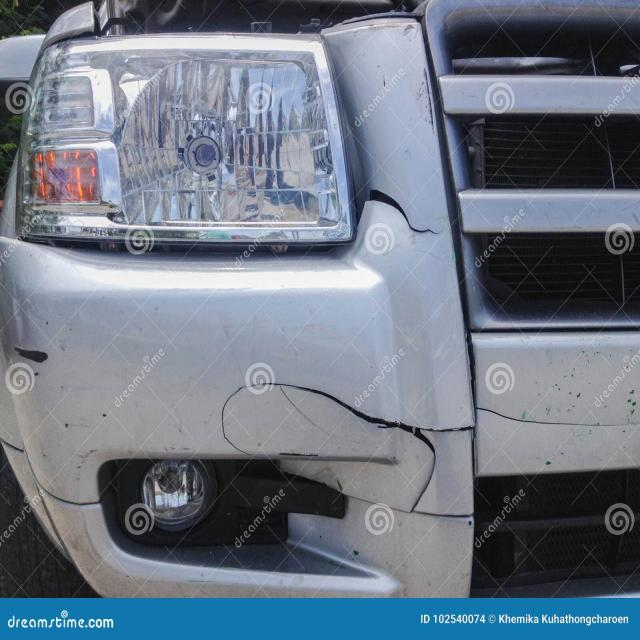missing: (92, 0, 426, 34)
scratch: (10, 309, 109, 485), (524, 342, 640, 473), (276, 380, 354, 443), (277, 453, 345, 495), (412, 65, 436, 142), (343, 18, 421, 41), (156, 440, 199, 454), (381, 71, 388, 89)
tear: (213, 378, 479, 523), (473, 401, 640, 431), (356, 181, 444, 237)
